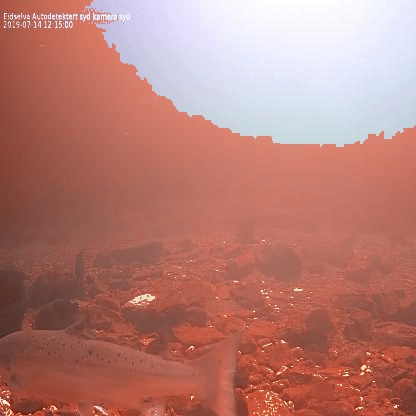salmon: (0, 312, 247, 415)
